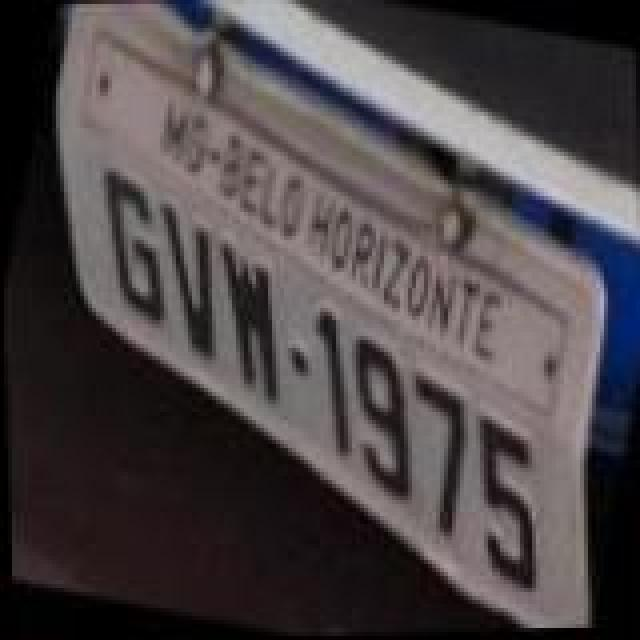1: (286, 308, 382, 468)
5: (440, 408, 572, 596)
7: (376, 372, 488, 544)
9: (320, 334, 444, 506)
G: (68, 168, 188, 332)
V: (130, 196, 246, 364)
W: (190, 242, 314, 414)
